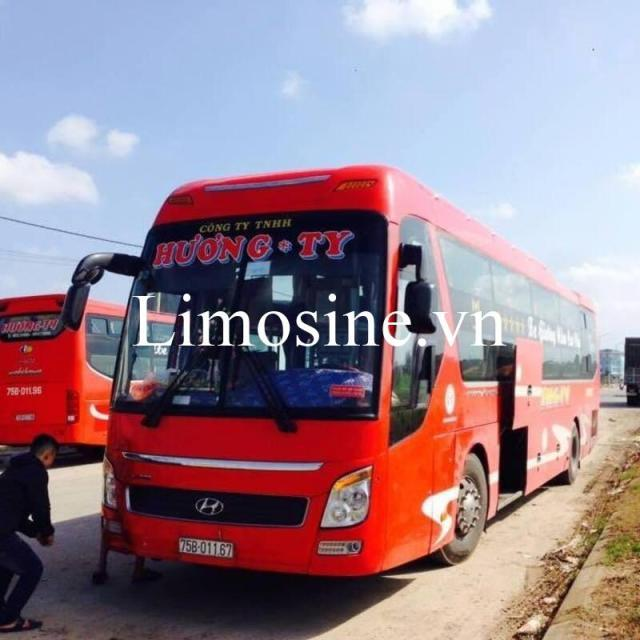car: (77, 163, 602, 607)
plate: (173, 529, 240, 564)
